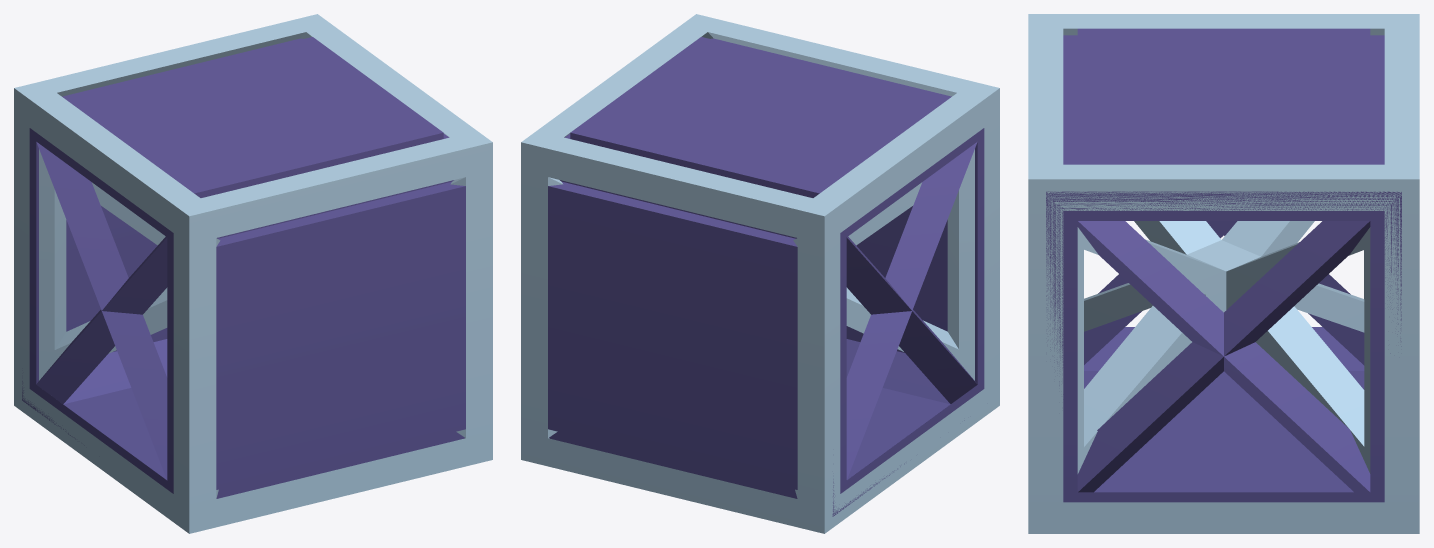
File: BlocksFinais.fbx
3 views of the same model, side by side, from view 1: azimuth 30°, elevation 25°; view 2: azimuth 150°, elevation 25°; view 3: azimuth 270°, elevation 25° (orthographic). The views are drawn at different scales.
Parts seen in each view (by area): view 1: Bloco_Leve, Bloco_Medio; view 2: Bloco_Leve, Bloco_Medio; view 3: Bloco_Leve, Bloco_Medio.
Boxes of the visible parts, <box> form: Bloco_Leve: <box>22,37,465,498</box>; Bloco_Medio: <box>14,14,492,533</box>; Bloco_Leve: <box>548,37,984,516</box>; Bloco_Medio: <box>521,14,999,533</box>; Bloco_Leve: <box>1046,28,1401,502</box>; Bloco_Medio: <box>1028,14,1419,533</box>.
Size of the model in its own units: 100 by 100 by 100.
